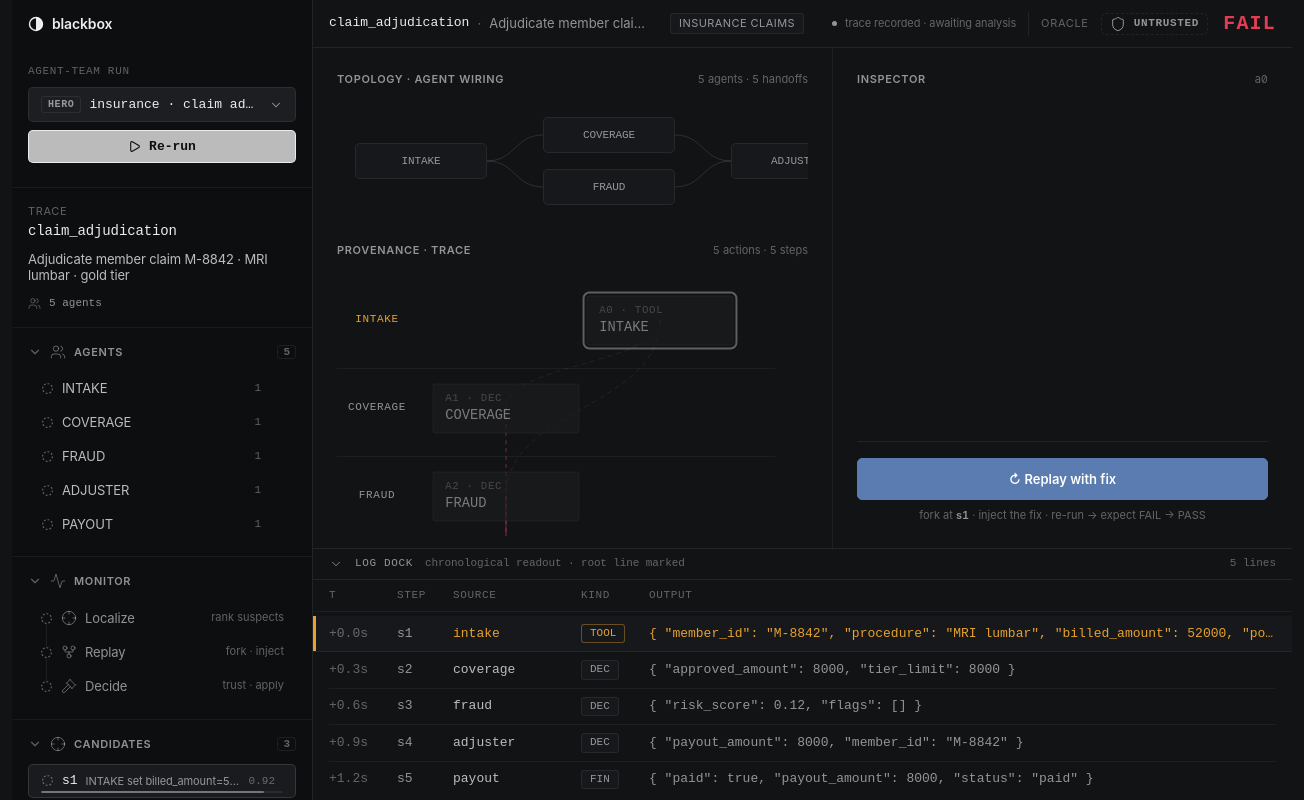
Test: Dashboard · pending run (Dev READY state) › shows READY and hides the stale graph when the picked scenario is not loaded
The width and height of the screenshot is (1304, 800).
Expected: the text "FAIL" is shown, 1223,14 -> 1276,34
Expected: the text "INTAKE set billed_amount=52000.0; should be 5200.0" is shown, 86,774 -> 241,788
Click the button with aria-label "Choose scenario": click(162, 105) 28,87 -> 296,122
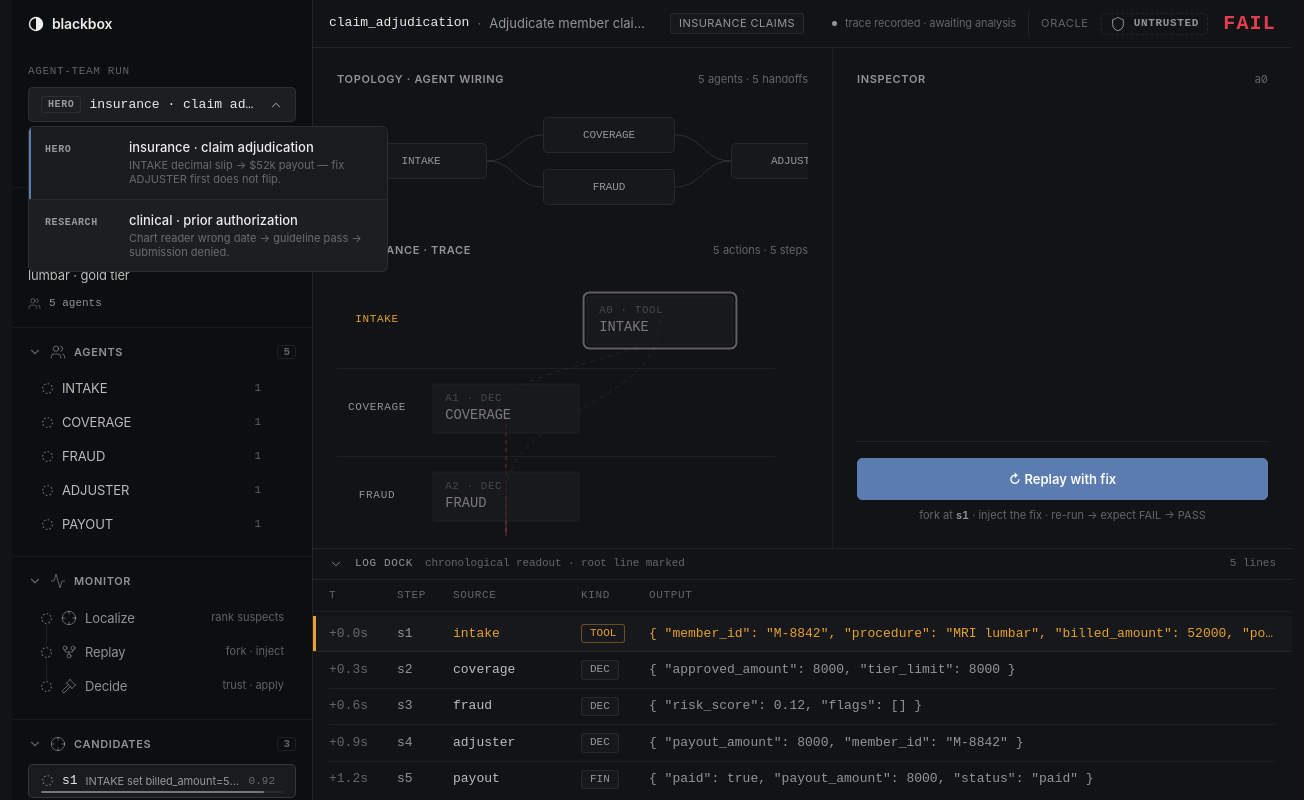
Click the button "clinical · prior authorization": click(208, 236) 29,200 -> 387,271
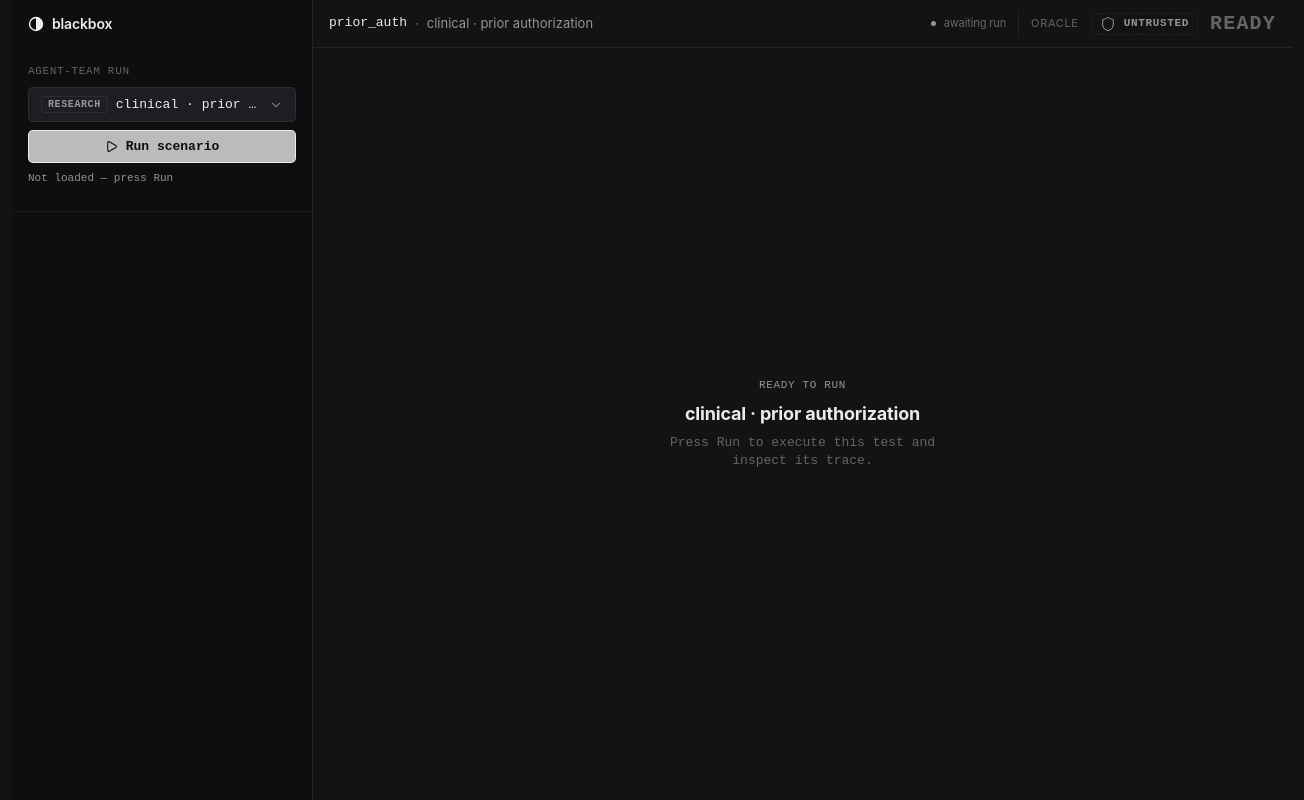
Result: the text "READY" is shown at 1210,14 -> 1276,34
Result: the text "ready to run" is shown at 759,378 -> 846,393
Result: the button "INTAKE" is gone
